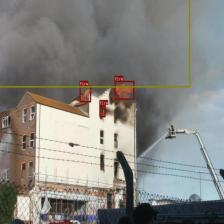fire: (114, 80, 134, 100), (79, 86, 90, 102), (100, 105, 106, 117)
smoke: (0, 0, 190, 87)
